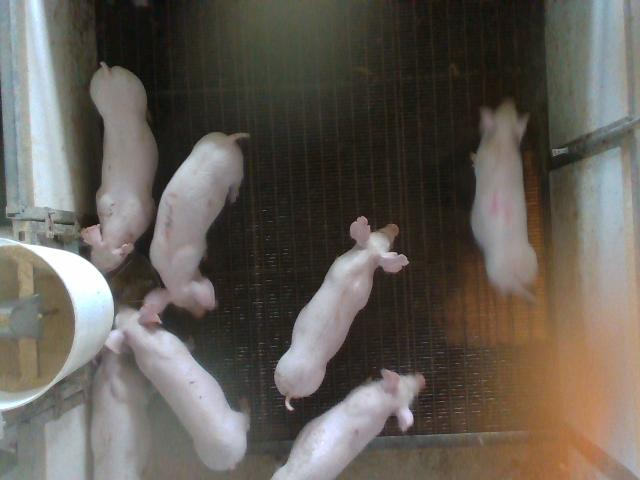pig-3: (144, 132, 248, 316)
pig-4: (471, 99, 538, 301)
